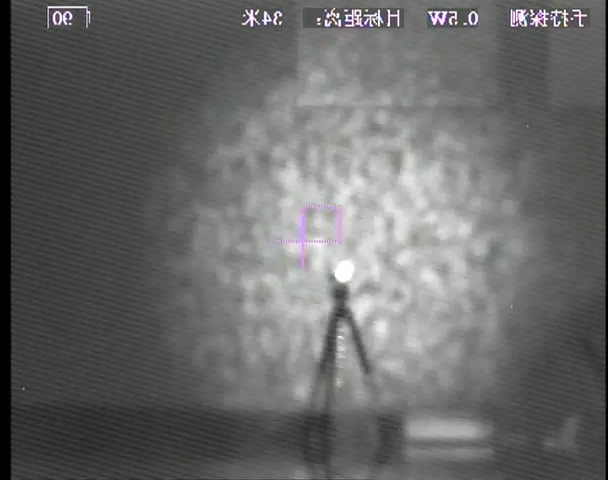my: (330, 259, 357, 284)
